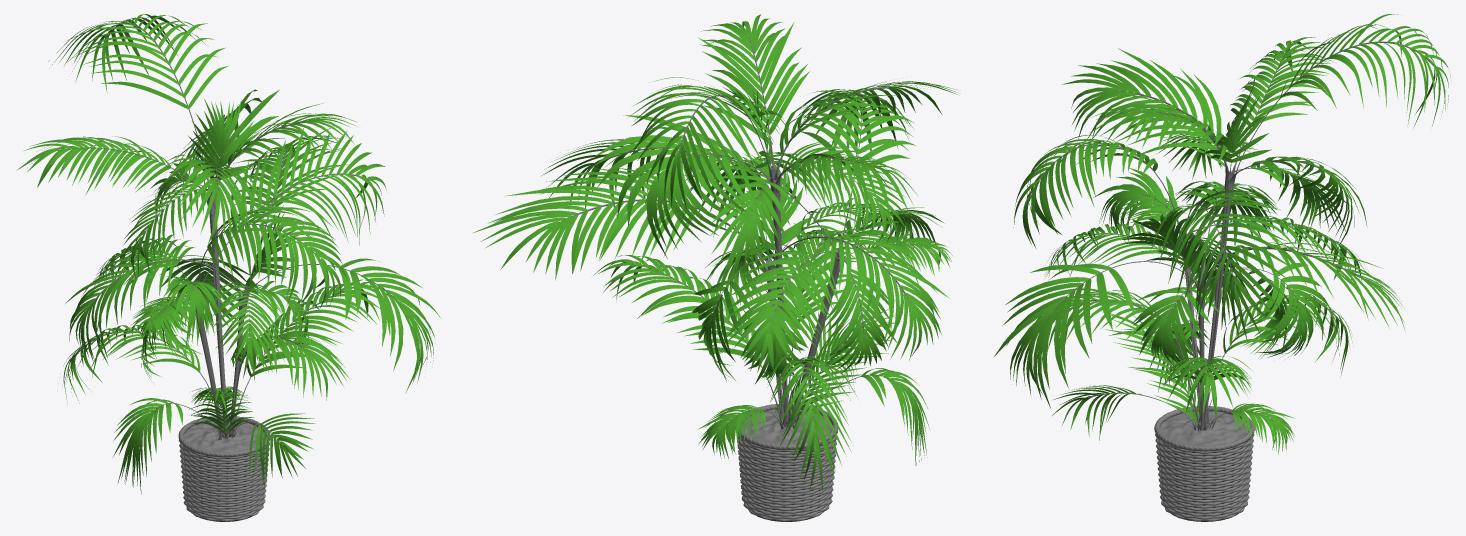
File: plant03.glb
3 views of the same model, side by side, from view 1: azimuth 30°, elevation 25°; view 2: azimuth 150°, elevation 25°; view 3: azimuth 270°, elevation 25° (orthographic). The views are drawn at different scales.
Visible parts, largest first — view 1: mesh_id11, mesh_id13, mesh_id25, mesh_id19, mesh_id7, mesh_id15, mesh_id9; view 2: mesh_id11, mesh_id13, mesh_id25, mesh_id19, mesh_id9, mesh_id15, mesh_id7; view 3: mesh_id11, mesh_id13, mesh_id25, mesh_id19, mesh_id15, mesh_id7.
Boxes of the visible parts, x1=… form: mesh_id11: x1=16, y1=14, x2=441, y2=494; mesh_id13: x1=178, y1=426, x2=269, y2=521; mesh_id25: x1=59, y1=22, x2=412, y2=445; mesh_id19: x1=183, y1=421, x2=263, y2=452; mesh_id7: x1=209, y1=205, x2=228, y2=434; mesh_id15: x1=178, y1=415, x2=270, y2=457; mesh_id9: x1=195, y1=306, x2=224, y2=436; mesh_id11: x1=472, y1=14, x2=957, y2=495; mesh_id13: x1=737, y1=409, x2=837, y2=521; mesh_id25: x1=559, y1=36, x2=929, y2=438; mesh_id19: x1=741, y1=409, x2=831, y2=444; mesh_id9: x1=792, y1=256, x2=839, y2=421; mesh_id15: x1=738, y1=404, x2=837, y2=450; mesh_id7: x1=772, y1=179, x2=788, y2=423; mesh_id11: x1=993, y1=14, x2=1450, y2=454; mesh_id13: x1=1155, y1=433, x2=1254, y2=521; mesh_id25: x1=1030, y1=41, x2=1432, y2=430; mesh_id19: x1=1160, y1=411, x2=1248, y2=445; mesh_id15: x1=1154, y1=405, x2=1254, y2=451; mesh_id7: x1=1204, y1=176, x2=1232, y2=424.
Bounding box in the file's own units: 0.4495 × 0.512 × 0.4551.
Materials: 11 (11 with a texture image).
